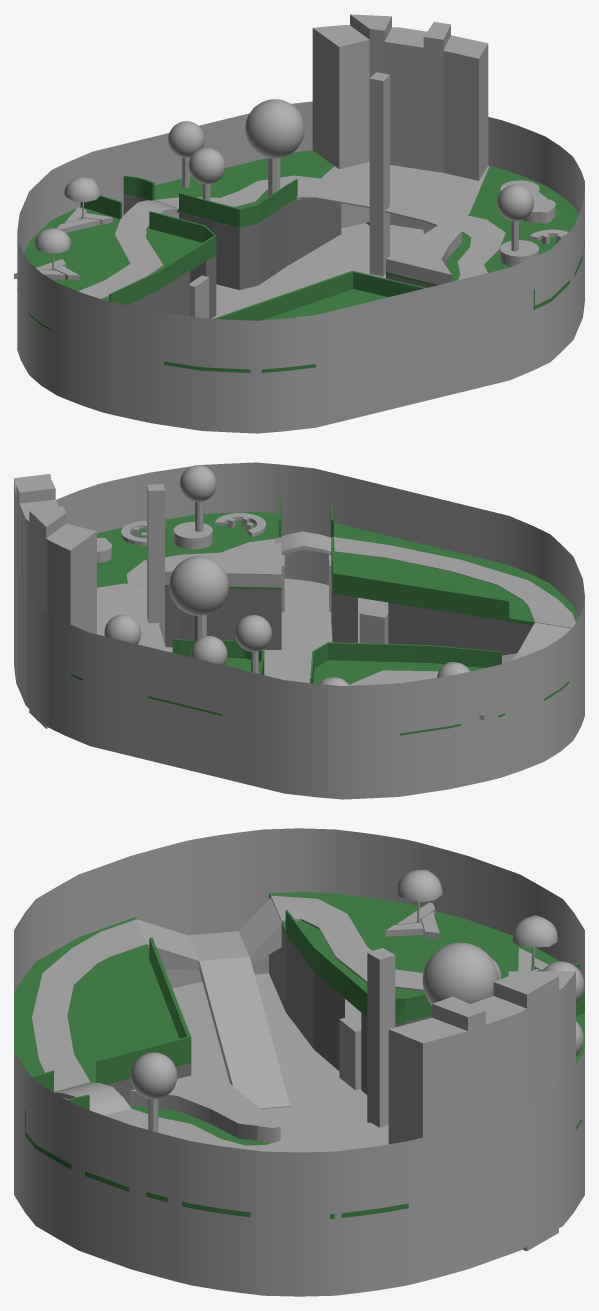
The model's file is Proto - AreaComunitaria_e_Parque.fbx.
3 views of the same model, one above another, from view 1: azimuth 30°, elevation 25°; view 2: azimuth 150°, elevation 25°; view 3: azimuth 270°, elevation 25° (orthographic). The views are drawn at different scales.
Visible parts, largest first — view 1: BuildingWall_and_Floors, Floor2, Parque_Andar_8B:parquepasted__pCube14, polySurface3, Floor1, Parque_Andar_8B:parquepasted__pCube18, Bridge1, Parque_Andar_8B:parquepasted__pCube16, Floor4, Floor3, Pilar, Parque_Andar_8B:parquepasted__pCube17 (+16 smaller); view 2: BuildingWall_and_Floors, Floor4, Parque_Andar_8B:parquepasted__pCube14, polySurface7, Floor2, Floor3, pCube9, polySurface5, Parque_Andar_8B:parquepasted__pSphere7, Pilar, Bridge1, Parque_Andar_8B:parquepasted__pCube16 (+17 smaller); view 3: BuildingWall_and_Floors, Floor4, Parque_Andar_8B:parquepasted__pCube18, Floor2, Parque_Andar_8B:parquepasted__pCube16, pCube8, pCube9, polySurface1, Parque_Andar_8B:parquepasted__pCube36, Parque_Andar_8B:parquepasted__pCube15, Pilar, pCube11 (+13 smaller).
Part boxes in pixels (x1,y1,x2,y2): BuildingWall_and_Floors: (17, 101, 584, 433); Floor2: (17, 195, 216, 330); Parque_Andar_8B:parquepasted__pCube14: (312, 25, 369, 228); polySurface3: (123, 195, 341, 289); Floor1: (123, 150, 334, 228); Parque_Andar_8B:parquepasted__pCube18: (443, 35, 488, 180); Bridge1: (296, 162, 489, 225); Parque_Andar_8B:parquepasted__pCube16: (384, 27, 426, 229); Floor4: (164, 270, 426, 372); Floor3: (386, 166, 584, 309); Pilar: (369, 72, 389, 276); Parque_Andar_8B:parquepasted__pCube17: (423, 22, 450, 233); BuildingWall_and_Floors: (14, 462, 584, 799); Floor4: (330, 505, 578, 625); Parque_Andar_8B:parquepasted__pCube14: (46, 523, 96, 730); polySurface7: (330, 526, 532, 655); Floor2: (310, 642, 568, 735); Floor3: (97, 496, 281, 589); pCube9: (334, 537, 575, 628); polySurface5: (165, 529, 281, 649); Parque_Andar_8B:parquepasted__pSphere7: (169, 556, 228, 642); Pilar: (147, 484, 164, 643); Bridge1: (97, 583, 170, 652); Parque_Andar_8B:parquepasted__pCube16: (19, 499, 58, 704); BuildingWall_and_Floors: (14, 828, 584, 1296); Floor4: (14, 917, 191, 1093); Parque_Andar_8B:parquepasted__pCube18: (388, 1018, 467, 1276); Floor2: (269, 892, 579, 1022); Parque_Andar_8B:parquepasted__pCube16: (470, 996, 526, 1254); pCube8: (188, 931, 290, 1108); pCube9: (32, 919, 146, 1092); polySurface1: (269, 896, 432, 1094); Parque_Andar_8B:parquepasted__pCube36: (129, 1070, 280, 1142); Parque_Andar_8B:parquepasted__pCube15: (493, 976, 558, 1250); Pilar: (367, 948, 395, 1127); pCube11: (271, 895, 424, 991).
Size of the model in its own units: 2416 by 903 by 1798.
